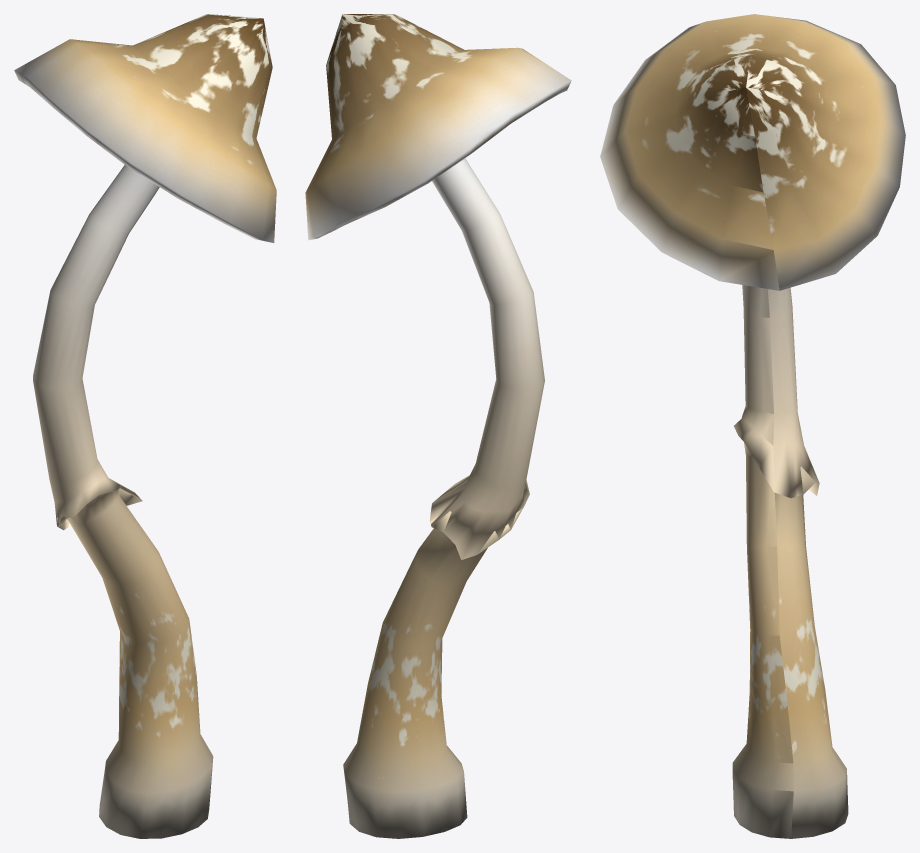
The model's file is mushrooms01_large.glb.
The picture shows the model from 3 angles, left to right: view 1: azimuth 30°, elevation 25°; view 2: azimuth 150°, elevation 25°; view 3: azimuth 270°, elevation 25°; orthographic projection. The views are drawn at different scales.
Visible parts, largest first — view 1: Mushroom_1; view 2: Mushroom_1; view 3: Mushroom_1.
Boxes of the visible parts, x1,y1,x2,y2 form: Mushroom_1: [14, 14, 276, 838]; Mushroom_1: [305, 14, 571, 838]; Mushroom_1: [600, 14, 905, 838].
Size of the model in its own units: 130 by 447 by 159.
Materials: 1 (1 with a texture image).
